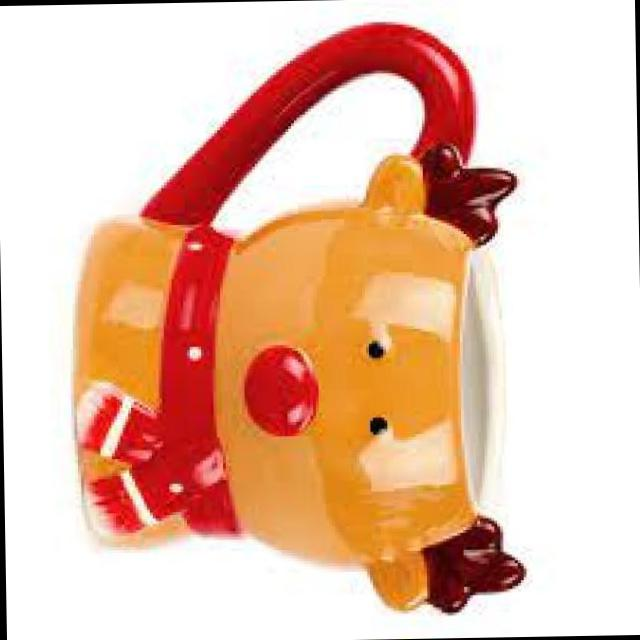Coffee Mug: (68, 19, 530, 617)
